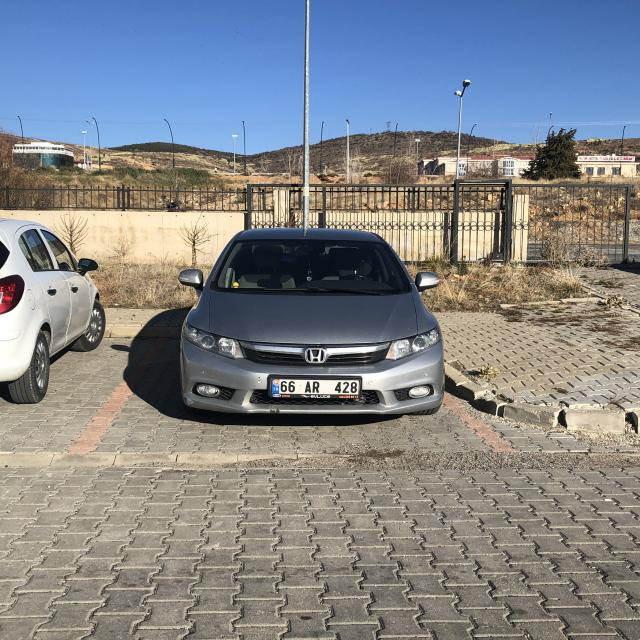license_plate: (269, 376, 362, 394)
